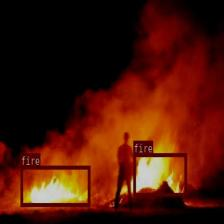fire: (20, 166, 90, 206), (133, 153, 186, 196)
